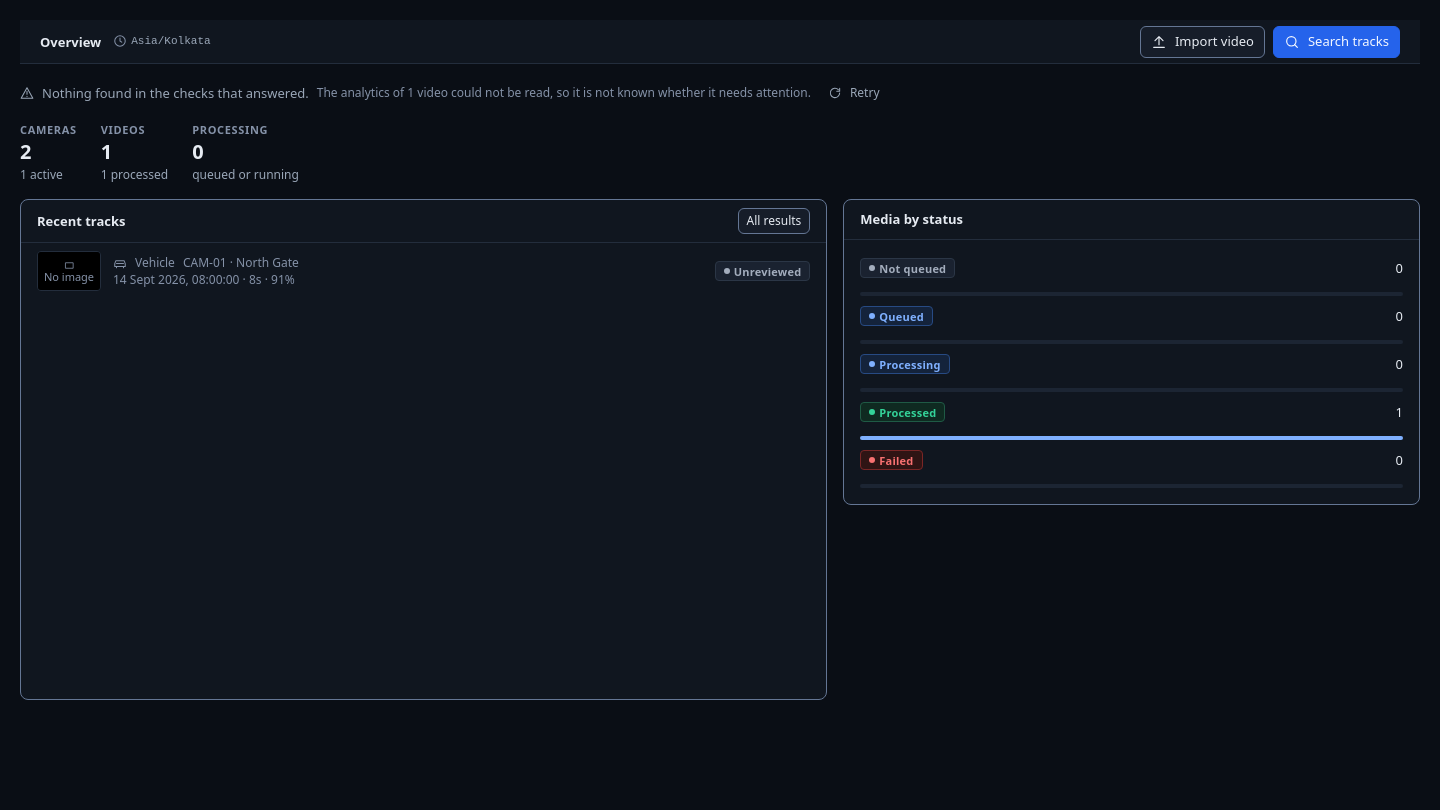
Test: OverviewPage › the attention region (§4.1.1) › names a check that failed rather than reading it as healthy, and retries it
This screenshot has width=1440, height=810.
Expected: the text "analytics of 1 video could not be read, so it is not known whether it needs attention" is shown, [317,84,811,101]
Expected: the text "Nothing found in the checks that answered." is shown, [42,84,309,102]
Click the button "Retry": (854, 93) [819,80,888,106]
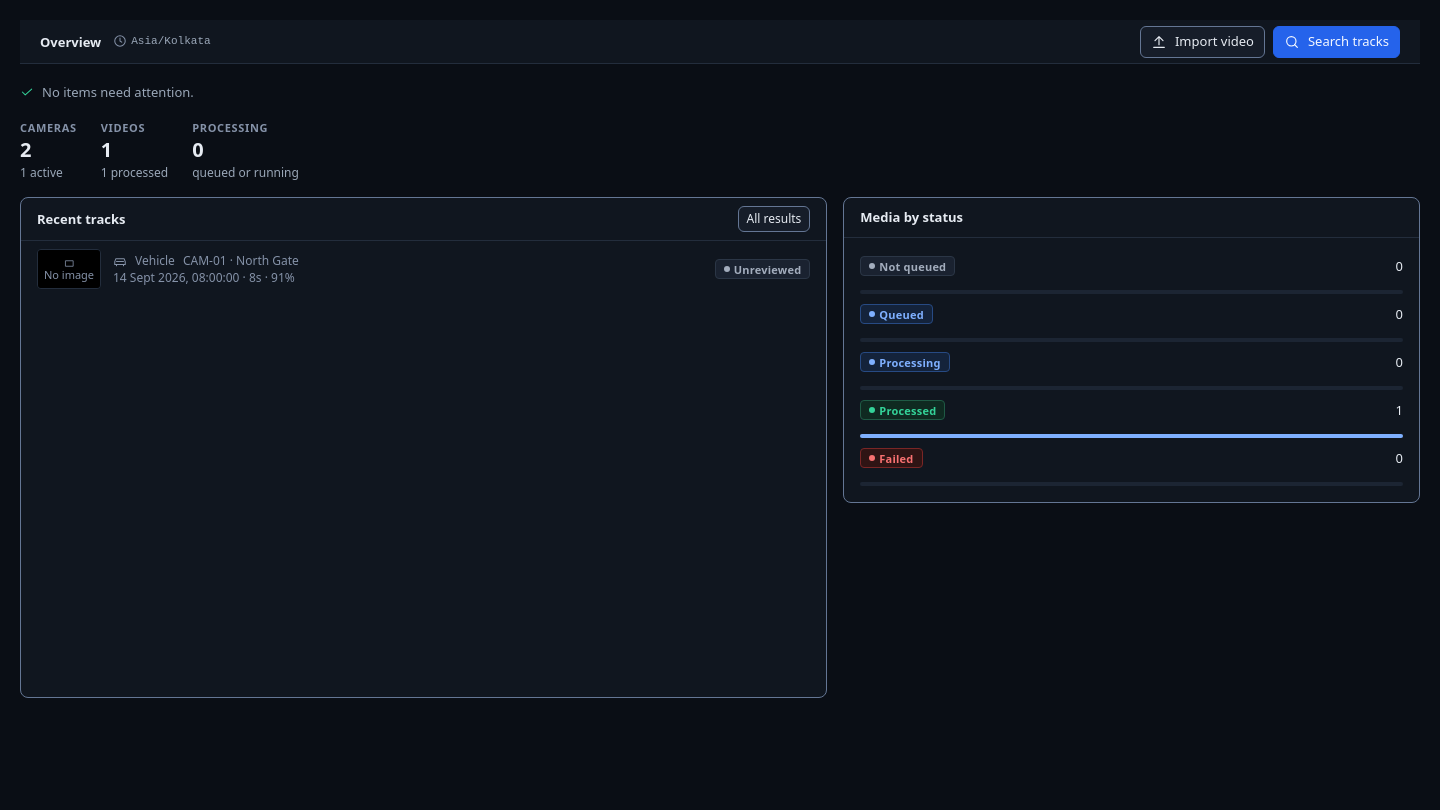
Now the text "No items need attention." is shown, box [42,83,194,101]
